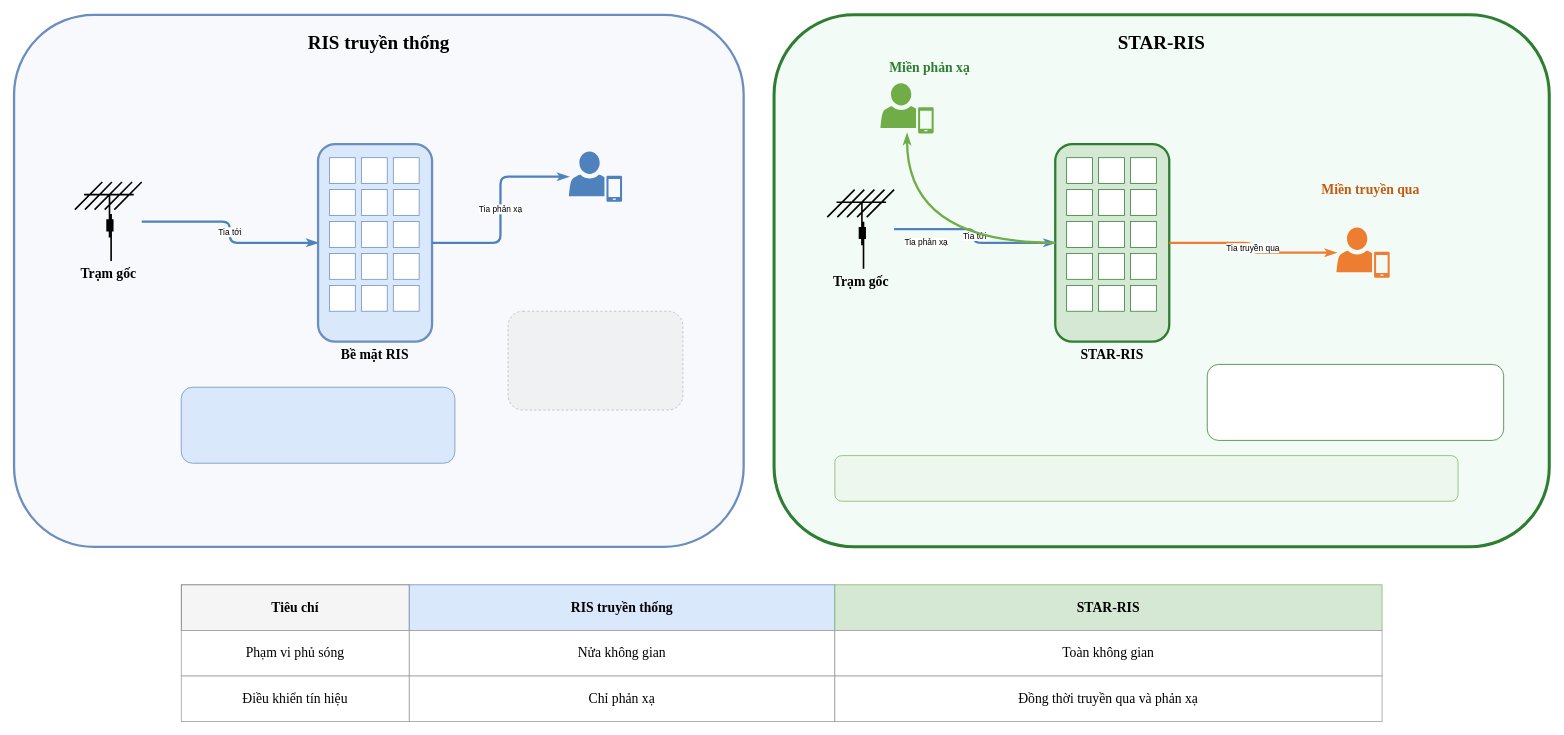
This 1564x735 diagram has some shape labels left out. Here are the shapes that lost their labels. From the top down, the centre of each, then its label:
At (x=906, y=108): "Người dùng phía phản xạ".
At (x=595, y=176): "Người dùng".
At (x=1362, y=252): "Người dùng phía truyền qua".
At (x=595, y=360): "Vùng khuất phủ sóng".
At (x=1355, y=402): "φ n T = √β n T e jθ n T φ n R = √(1−β n T )e jθ n R".
At (x=317, y=424): "Chỉ phản xạ Phủ sóng nửa không gian".
At (x=1146, y=478): "ES: Chia năng lượng | MS: Chuyển chế độ | TS: Chuyển theo thời gian".
